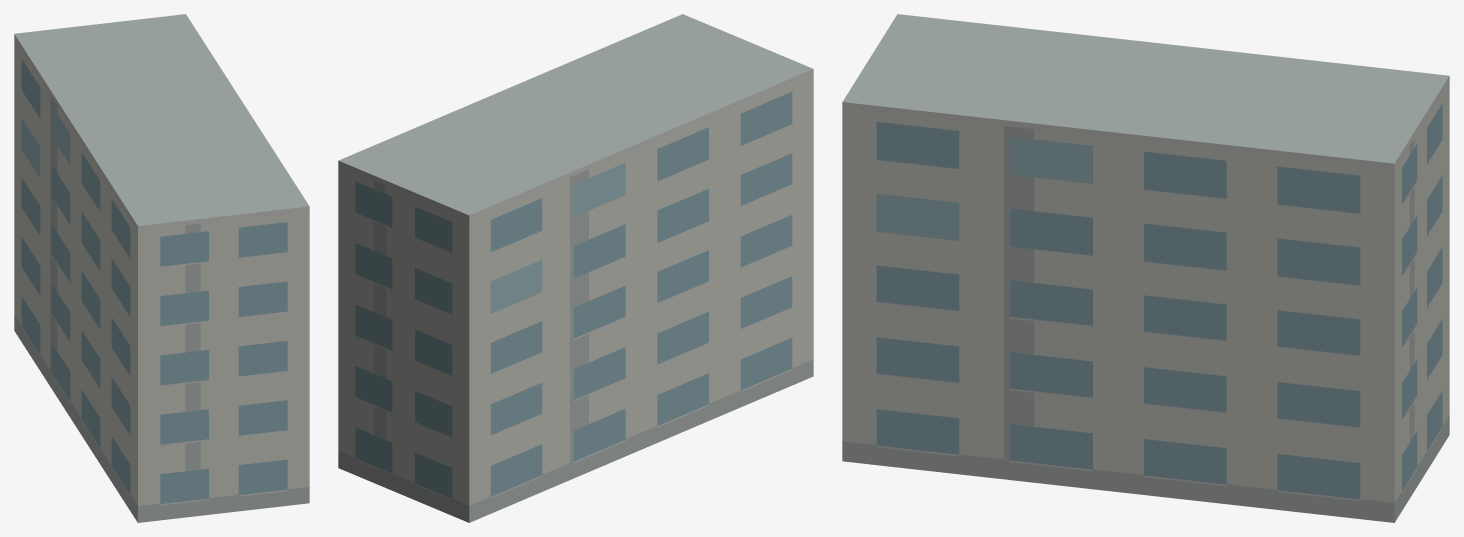
File: residential-555f7d28-dfb9-4856-bece-d71a8d9a493d.glb
3 views of the same model, side by side, from view 1: azimuth 30°, elevation 25°; view 2: azimuth 150°, elevation 25°; view 3: azimuth 270°, elevation 25° (orthographic). The views are drawn at different scales.
Visible parts, largest first — view 1: residential-555f7d28-dfb9-4856-bece-d71a8d9a493d.tmp; view 2: residential-555f7d28-dfb9-4856-bece-d71a8d9a493d.tmp; view 3: residential-555f7d28-dfb9-4856-bece-d71a8d9a493d.tmp.
Part boxes in pixels (left/top/right/bottom): residential-555f7d28-dfb9-4856-bece-d71a8d9a493d.tmp: left=14, top=14, right=309, bottom=522; residential-555f7d28-dfb9-4856-bece-d71a8d9a493d.tmp: left=338, top=14, right=813, bottom=522; residential-555f7d28-dfb9-4856-bece-d71a8d9a493d.tmp: left=842, top=14, right=1449, bottom=522.
Size of the model in its own units: 13.63 by 15.25 by 23.37.
